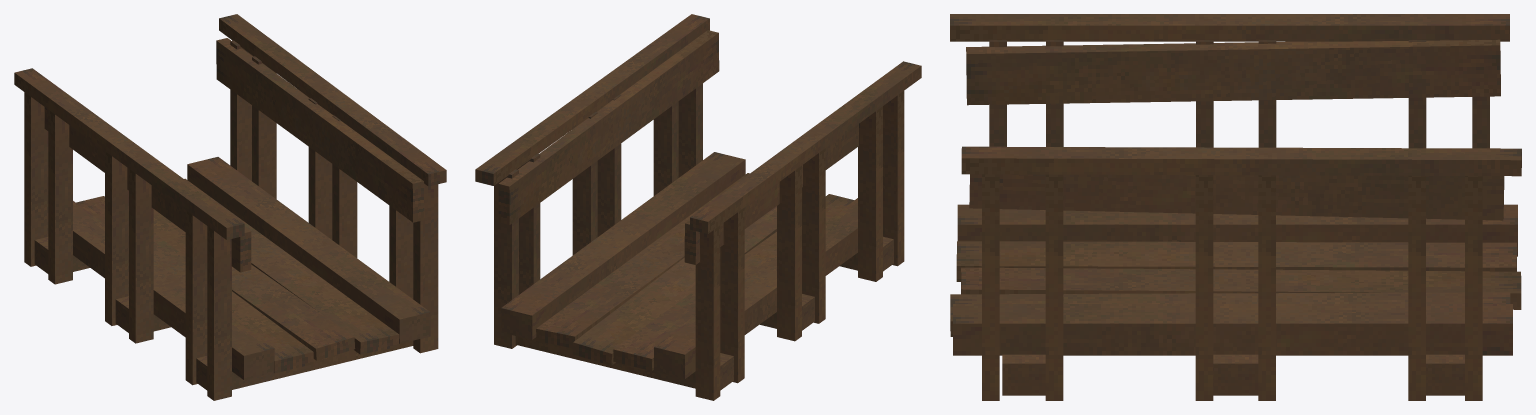
Rendered from CatwalkWood.glb.
The picture shows the model from 3 angles, left to right: view 1: azimuth 30°, elevation 25°; view 2: azimuth 150°, elevation 25°; view 3: azimuth 270°, elevation 25°; orthographic projection. The views are drawn at different scales.
Parts seen in each view (by area): view 1: Cube.072; view 2: Cube.072; view 3: Cube.072.
Part boxes in pixels (box(x1,y1,x2,y2)): Cube.072: box(14, 14, 446, 400); Cube.072: box(475, 14, 921, 400); Cube.072: box(950, 14, 1521, 400).
Size of the model in its own units: 3.05 by 2.37 by 5.04.
1 material, 1 textured.
